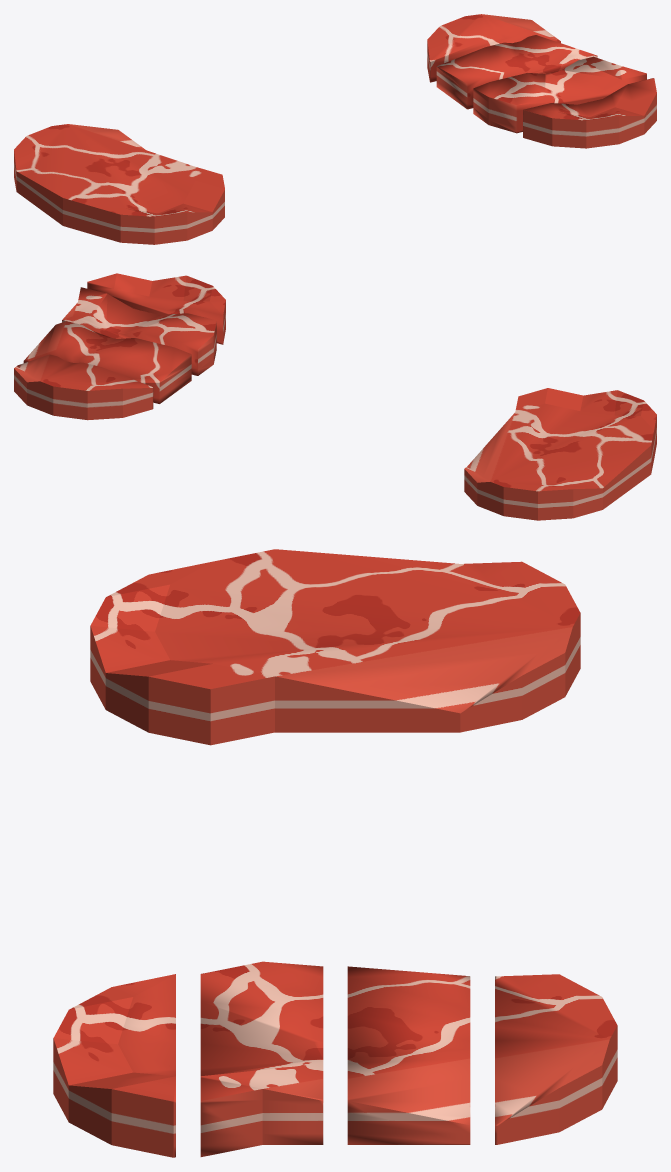
File: carnes cocina.fbx
3 renders of one model, top to bottom at view 1: azimuth 30°, elevation 25°; view 2: azimuth 150°, elevation 25°; view 3: azimuth 270°, elevation 25°, orthographic. The views are drawn at different scales.
Visible parts, largest first — view 1: Carne_Entera, Carne_Trozo_2, Carne_Trozo_1, Carne_Trozo_3, Carne_Trozo_4; view 2: Carne_Entera, Carne_Trozo_4, Carne_Trozo_3, Carne_Trozo_2, Carne_Trozo_1; view 3: Carne_Entera, Carne_Trozo_2, Carne_Trozo_3, Carne_Trozo_1, Carne_Trozo_4.
Boxes of the visible parts, x1,y1,x2,y2 form: Carne_Entera: [14, 124, 224, 244]; Carne_Trozo_2: [473, 56, 646, 133]; Carne_Trozo_1: [523, 78, 656, 148]; Carne_Trozo_3: [436, 35, 597, 109]; Carne_Trozo_4: [427, 14, 560, 82]; Carne_Entera: [464, 388, 656, 520]; Carne_Trozo_4: [14, 354, 153, 420]; Carne_Trozo_3: [23, 321, 191, 403]; Carne_Trozo_2: [62, 287, 216, 375]; Carne_Trozo_1: [87, 273, 225, 344]; Carne_Entera: [90, 549, 580, 745]; Carne_Trozo_2: [200, 961, 323, 1156]; Carne_Trozo_3: [347, 966, 470, 1144]; Carne_Trozo_1: [53, 974, 175, 1157]; Carne_Trozo_4: [495, 974, 617, 1144].
Bounding box in the file's own units: 4.24 × 0.2009 × 1.83.
5 materials, 5 textured.
